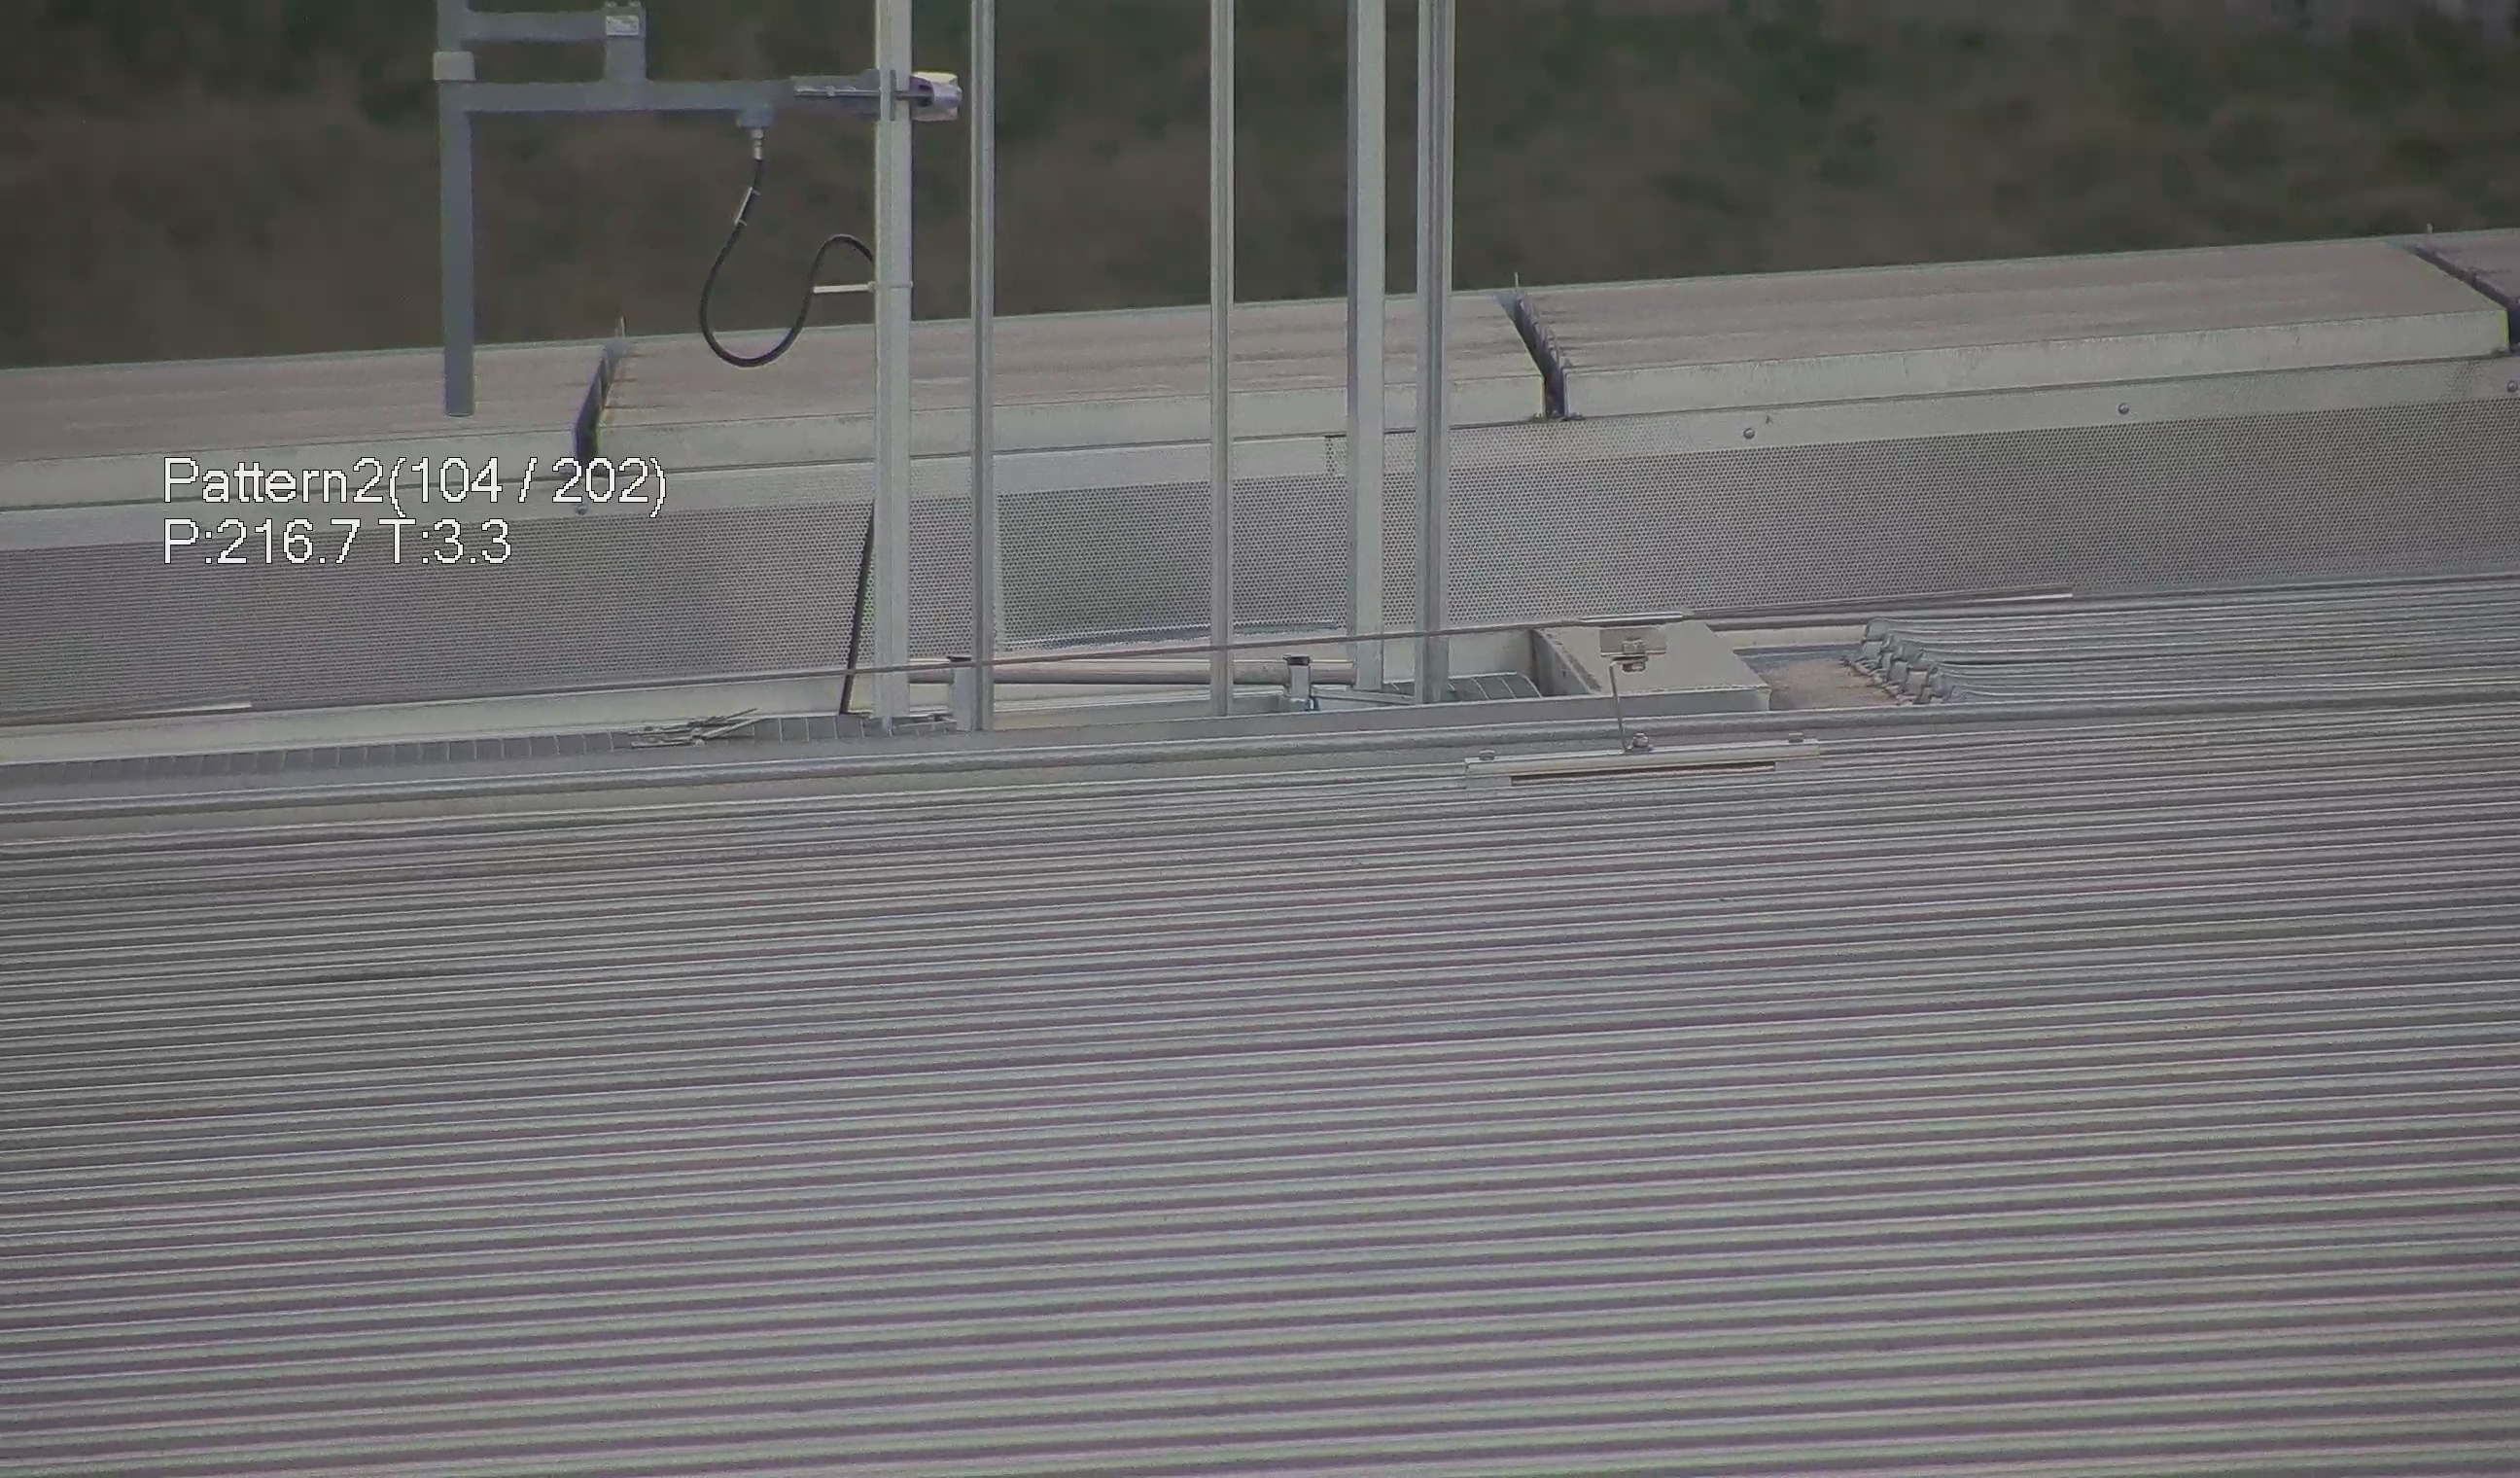Other: (1486, 266, 1593, 424)
